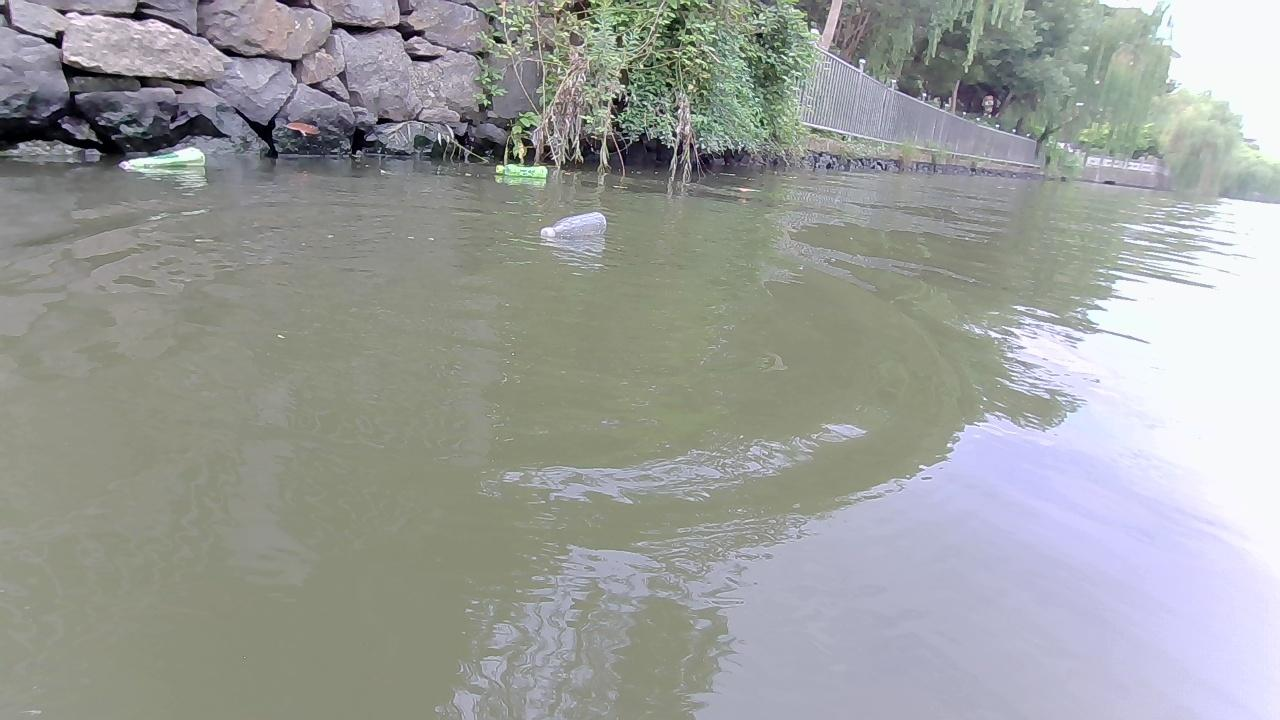bottle: (116, 145, 205, 169), (540, 212, 606, 237), (495, 164, 547, 176)
